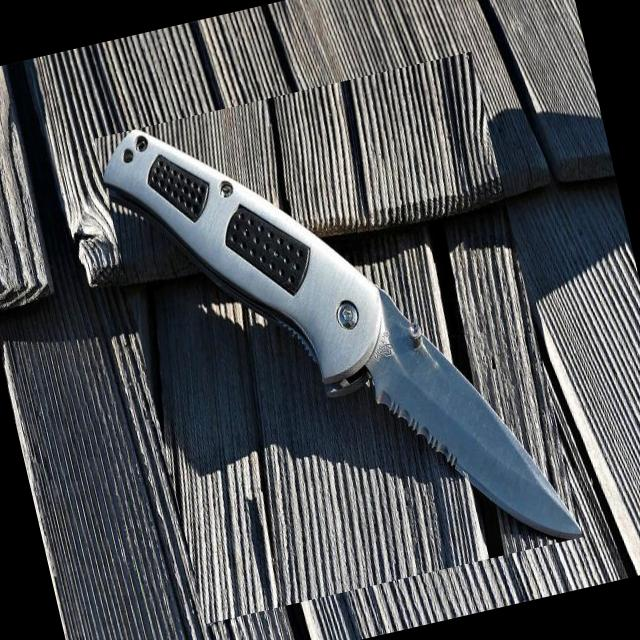Knife: (104, 130, 581, 539)
